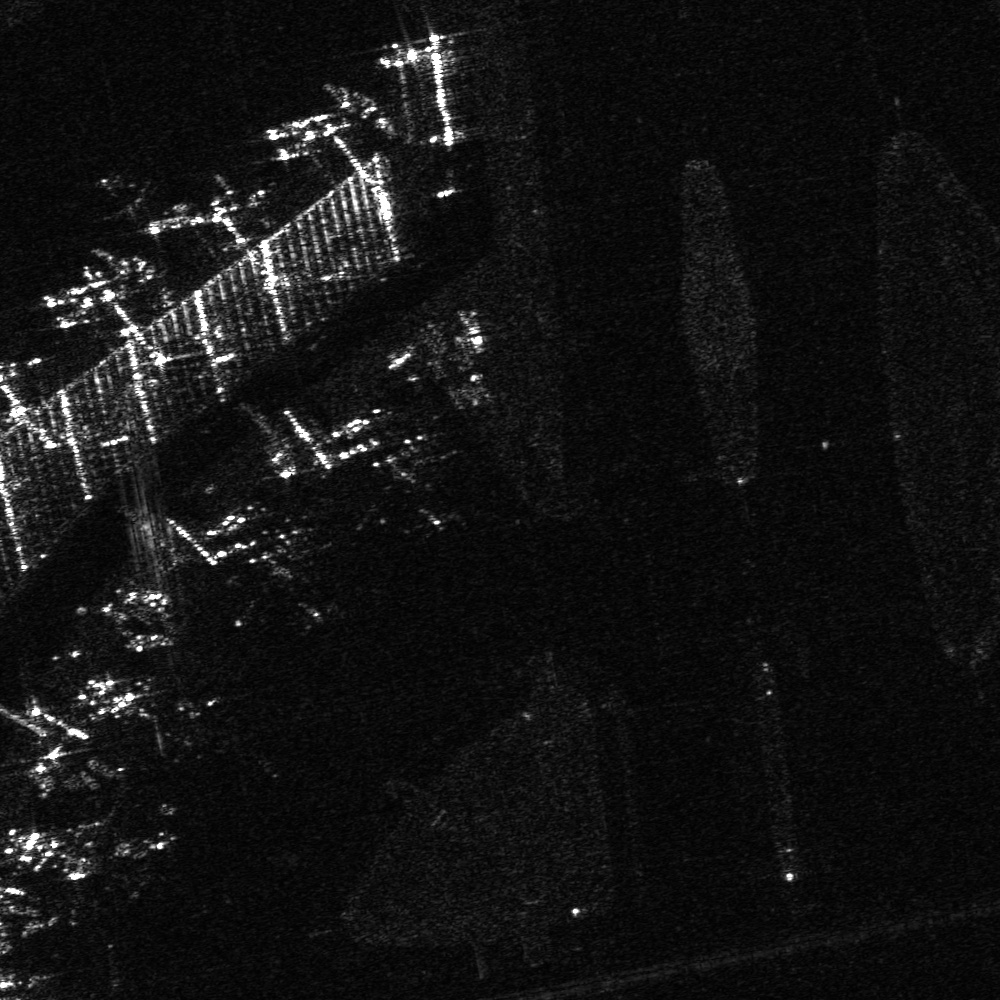Boeing787: (234, 533, 343, 625), (92, 173, 152, 224)
other: (357, 438, 465, 535)
